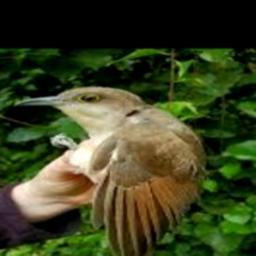Cuckoo: (15, 87, 208, 256)
